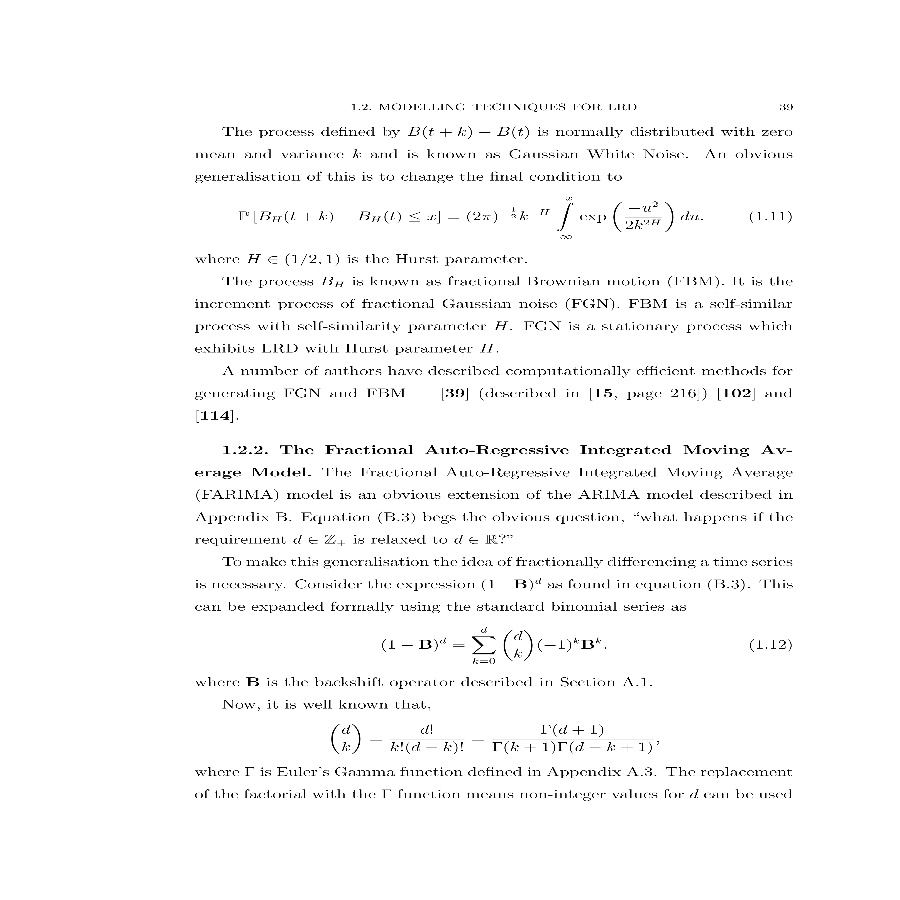eq: (238, 195, 705, 241), (327, 717, 655, 764), (380, 624, 605, 668)
